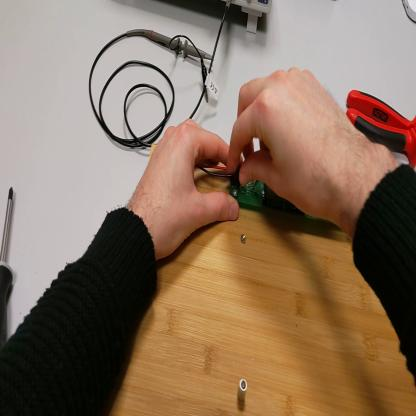hand: (228, 67, 362, 228), (140, 117, 245, 259)
high voltage board: (199, 165, 337, 229)
oscilloscope: (226, 1, 272, 32)
oscilloscope probe tip: (143, 29, 216, 66)
pliers: (340, 85, 416, 170)
screwdriver-: (2, 184, 16, 350)
working area: (111, 144, 416, 416)
